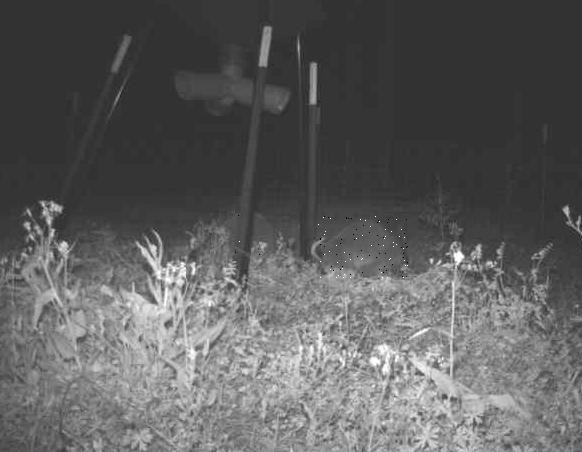Raccoon: (318, 215, 408, 279), (212, 207, 275, 256)
